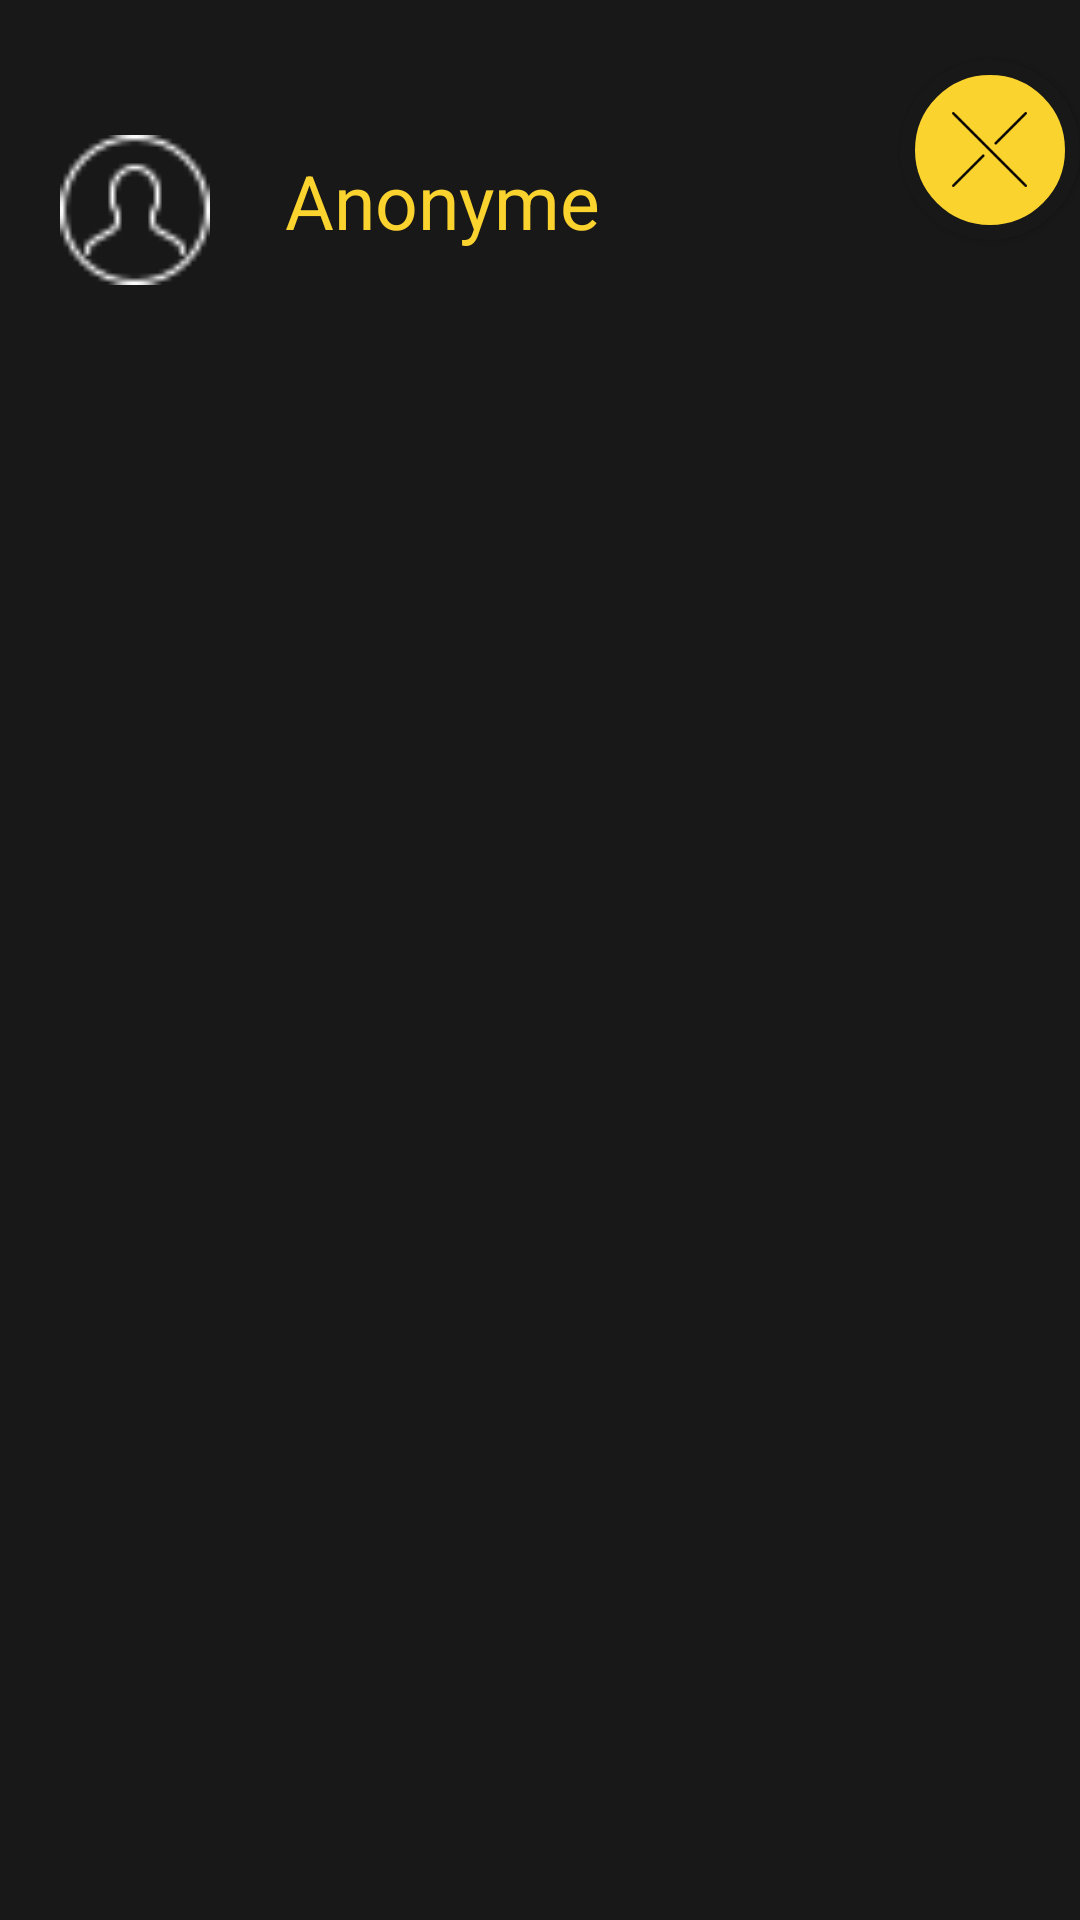

Locate icon controls on the screen. Image size 1080px x 1920px, boxes as (x1=x1, y1=y1, x2=x2, y2=y2).
user: (x1=60, y1=135, x2=210, y2=285)
